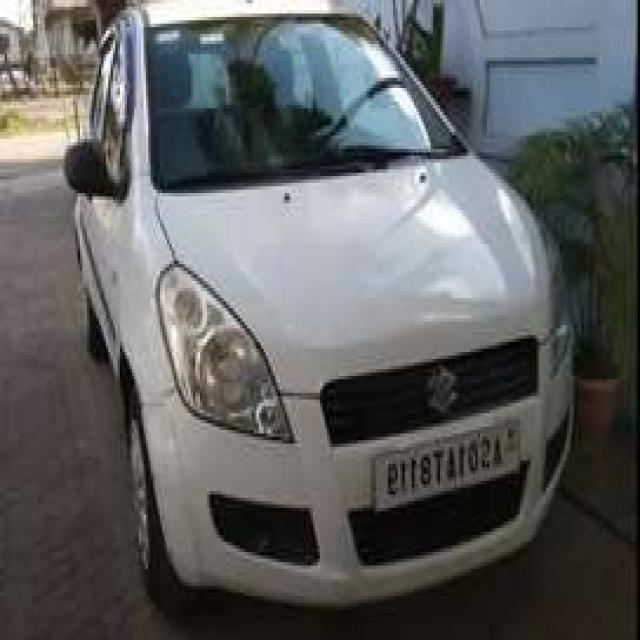license_plate: (367, 410, 526, 519)
